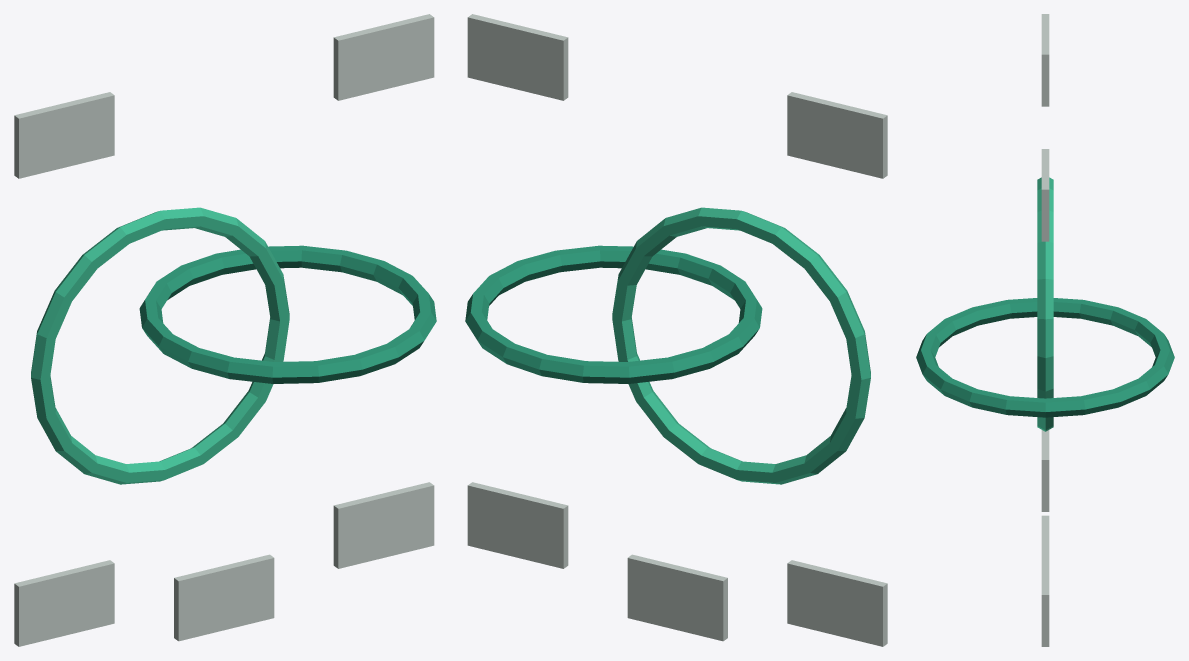
Rendered from scene-06-threads-light.glb.
3 renders of one model, left to right at view 1: azimuth 30°, elevation 25°; view 2: azimuth 150°, elevation 25°; view 3: azimuth 270°, elevation 25°, orthographic. The views are drawn at different scales.
Parts seen in each view (by area): view 1: threada, threadb, tile1, tile3, tile4, tile0, tile2; view 2: threada, threadb, tile1, tile3, tile4, tile0, tile2; view 3: threadb, threada, tile0, tile1, tile3, tile2.
Part boxes in pixels (<box>): threada: <box>31,207,289,484</box>; threadb: <box>139,245,436,383</box>; tile1: <box>333,14,434,100</box>; tile3: <box>333,482,434,568</box>; tile4: <box>174,554,274,641</box>; tile0: <box>14,92,114,178</box>; tile2: <box>14,560,114,646</box>; threada: <box>612,207,870,484</box>; threadb: <box>465,245,762,383</box>; tile1: <box>467,14,568,100</box>; tile3: <box>467,482,568,568</box>; tile4: <box>627,554,727,641</box>; tile0: <box>787,92,887,178</box>; tile2: <box>787,560,887,646</box>; threadb: <box>916,298,1174,417</box>; threada: <box>1037,177,1053,431</box>; tile0: <box>1041,14,1049,106</box>; tile1: <box>1041,149,1049,241</box>; tile3: <box>1041,554,1049,646</box>; tile2: <box>1041,430,1049,511</box>.
Size of the model in its own units: 2.6 by 3.36 by 1.62.
